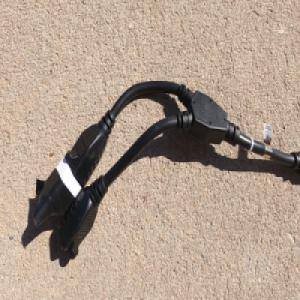Wire: (29, 79, 300, 263)
